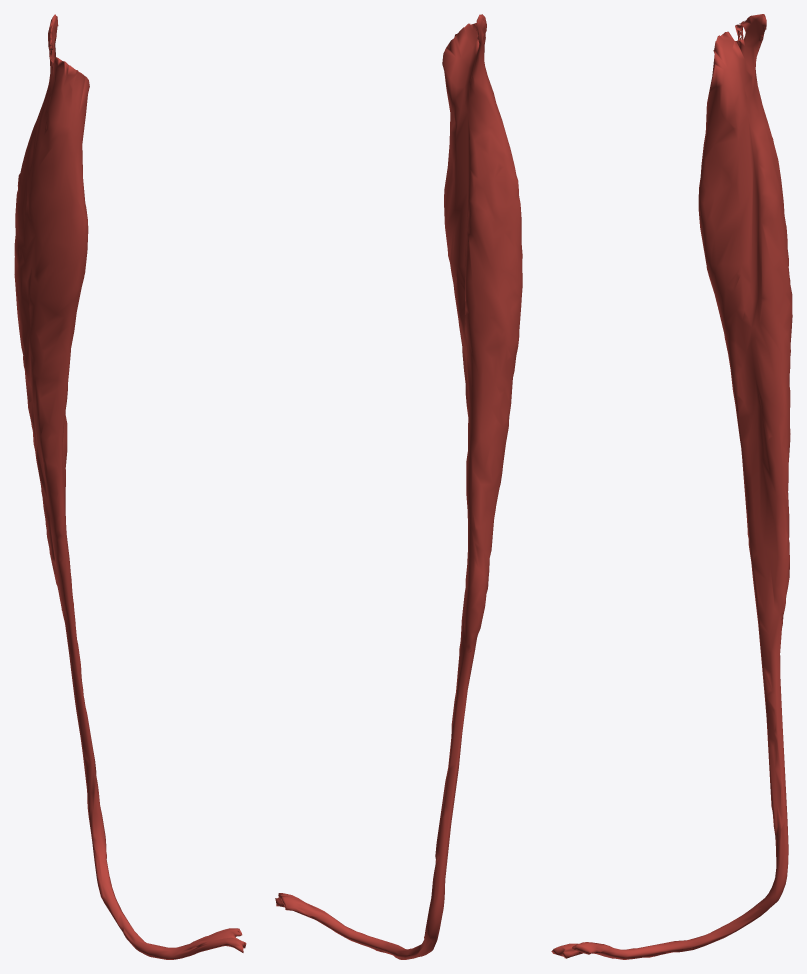
Rendered from musculos-fibularis-longus-muscle-r.glb.
3 views of the same model, side by side, from view 1: azimuth 30°, elevation 25°; view 2: azimuth 210°, elevation 25°; view 3: azimuth 270°, elevation 25° (orthographic). The views are drawn at different scales.
Parts seen in each view (by area): view 1: Fibularis longus muscle.r; view 2: Fibularis longus muscle.r; view 3: Fibularis longus muscle.r.
Part boxes in pixels (x1=…): Fibularis longus muscle.r: x1=14, y1=14, x2=246, y2=959; Fibularis longus muscle.r: x1=275, y1=14, x2=522, y2=959; Fibularis longus muscle.r: x1=551, y1=14, x2=792, y2=959.
Size of the model in its own units: 0.0586 by 0.3792 by 0.0897.
